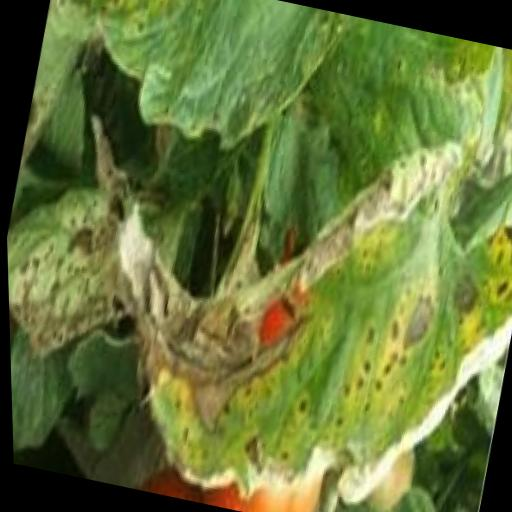Bacterial Spot: (11, 43, 512, 512)
